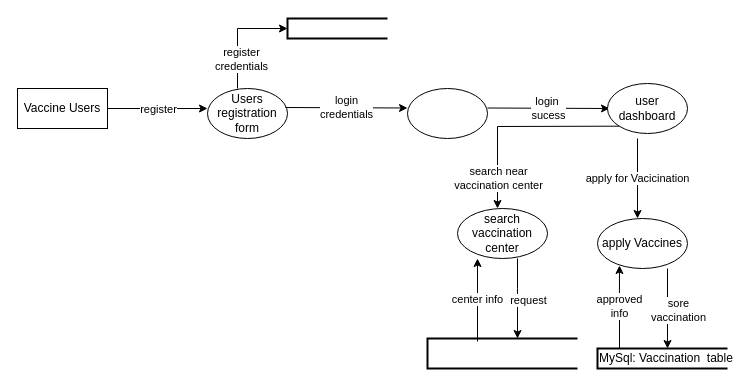
Image size: 751x386. Some labels were removed from this diagram. The centre of each missing label's shape, as x and y in pixels:
MySql: Users table: point (337, 28)
MySql: Vaccinecenter table: point (502, 353)
users login form: point (447, 113)
